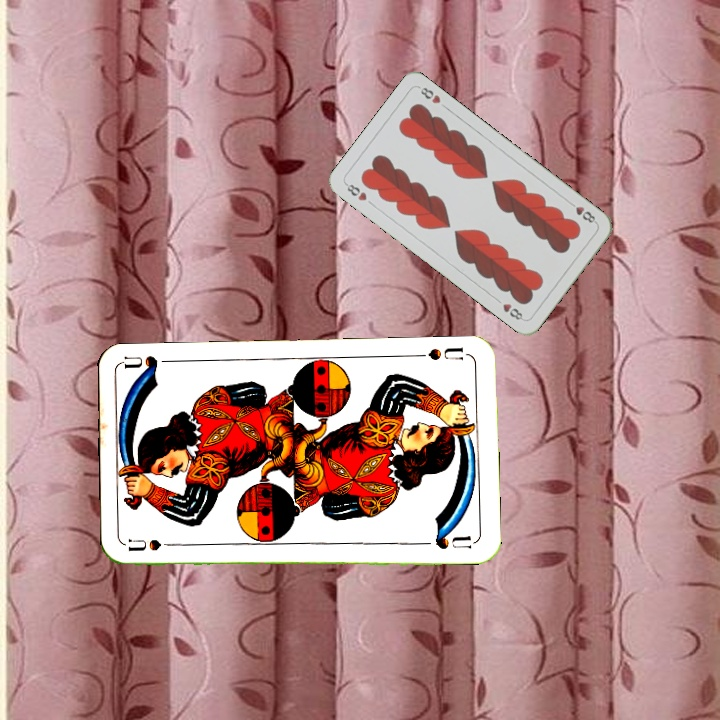H8: (564, 197, 599, 226), (341, 179, 369, 204)
SU: (125, 536, 185, 554), (424, 343, 465, 363)
